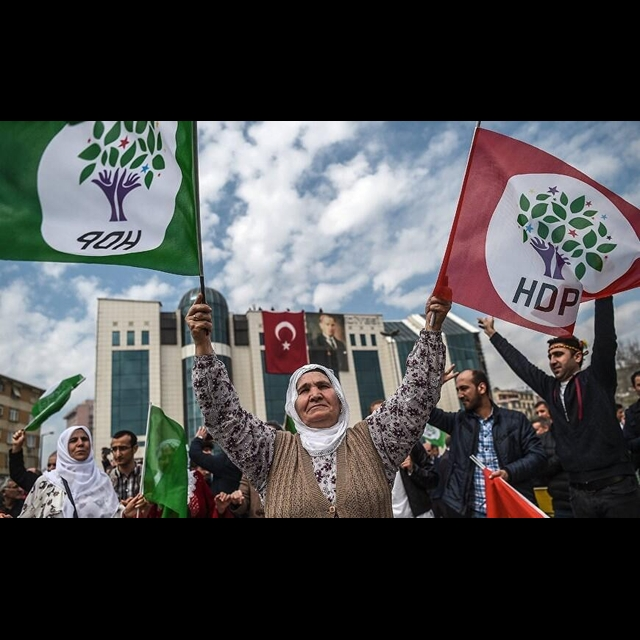HDP: (511, 181, 619, 283), (72, 116, 172, 222)
